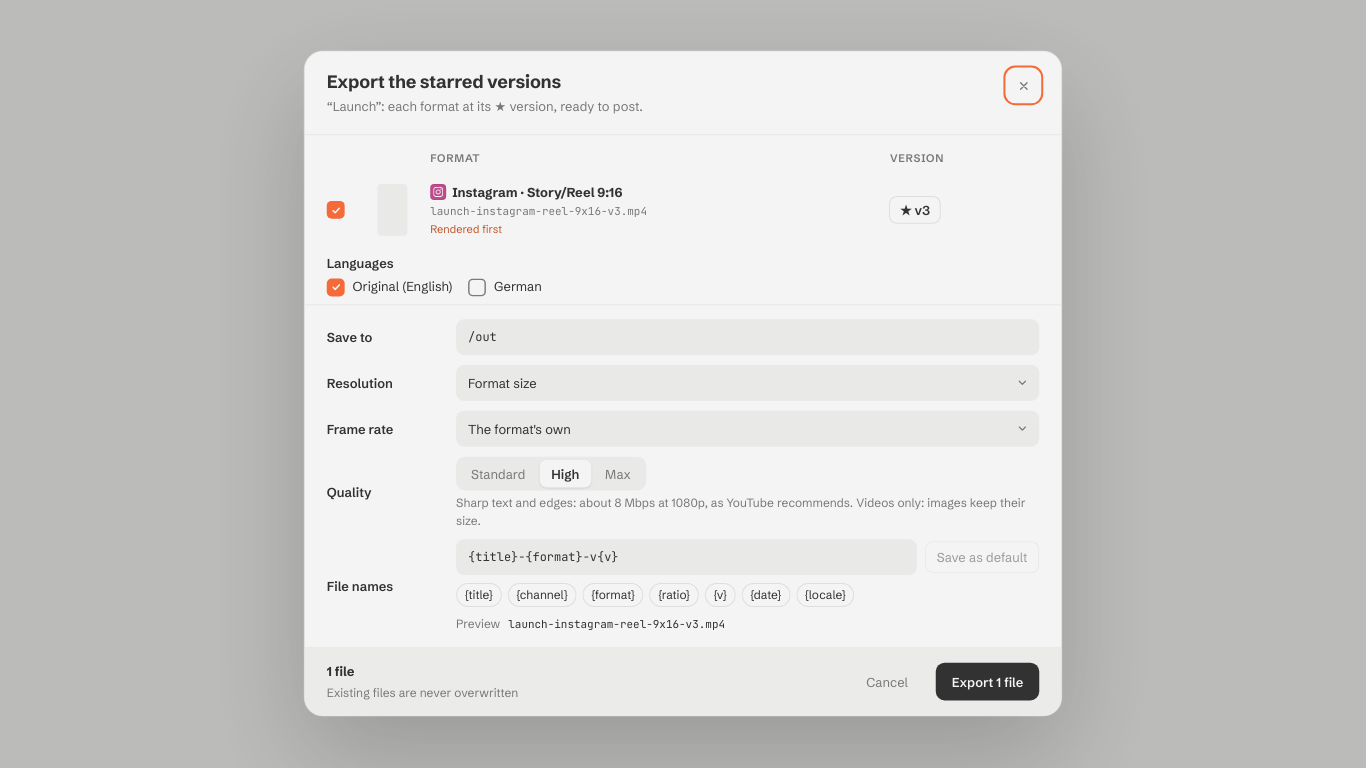
Export in several languages › the name preview lists the translated files, named with their language when the pattern has no {locale} (final review I2)
The width and height of the screenshot is (1366, 768).
Expected: the element with class "ms-exp-preview" shows "launch-instagram-reel-9x16-v3.mp4", [508,618,725,632]
Expected: the element with class "ms-exp-preview" does not show "Preview, German"
What coordinates should you click on to do the following:
click the checkbox named "German"
I would click on:
 (476, 287)
Its box is [467,278,485,296].
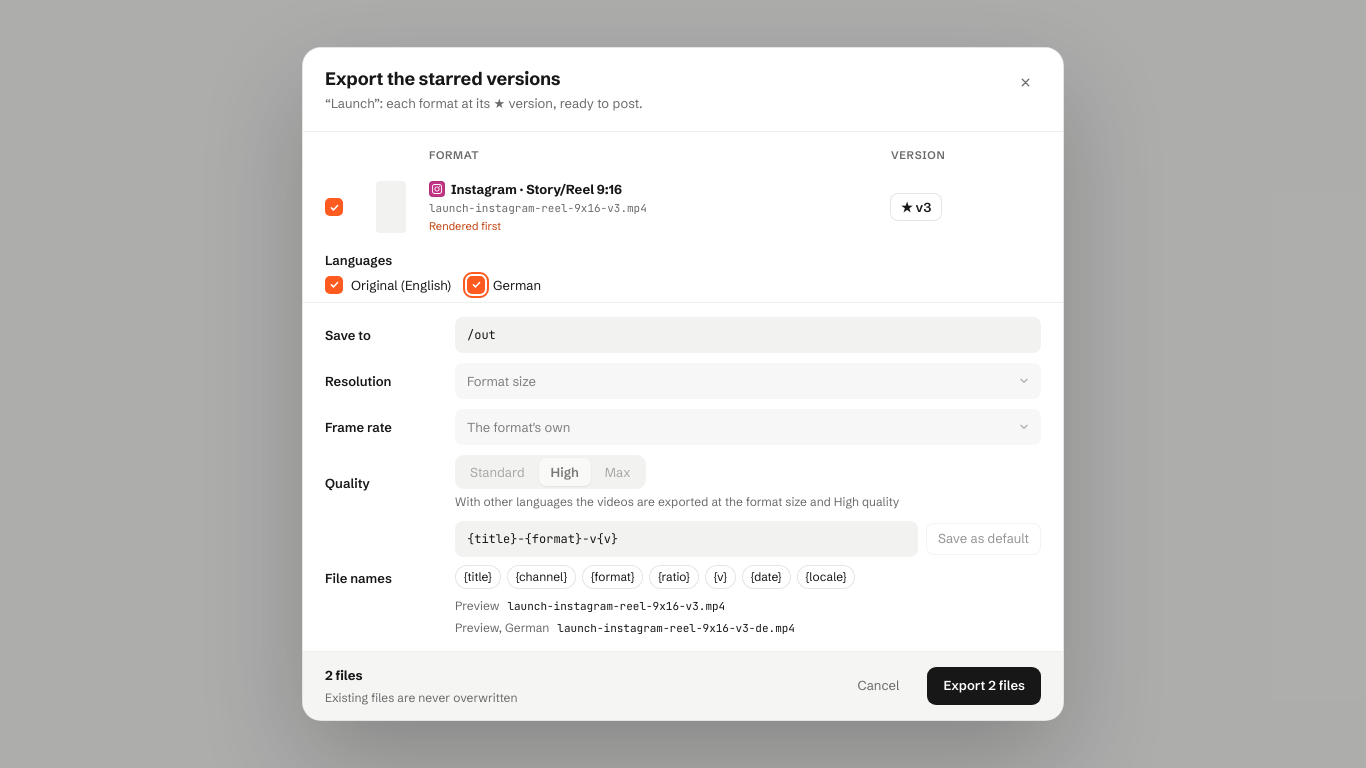
Result: the text "Preview, German" is shown at [455,619,549,636]
Result: the text "launch-instagram-reel-9x16-v3-de.mp4" is shown at [557,621,795,637]
# German alone: the original is not listed, the translation keeps its language.
What coordinates should you click on to do the following:
click the checkbox named "English"
I would click on:
 (334, 285)
Its box is [325,276,343,294].
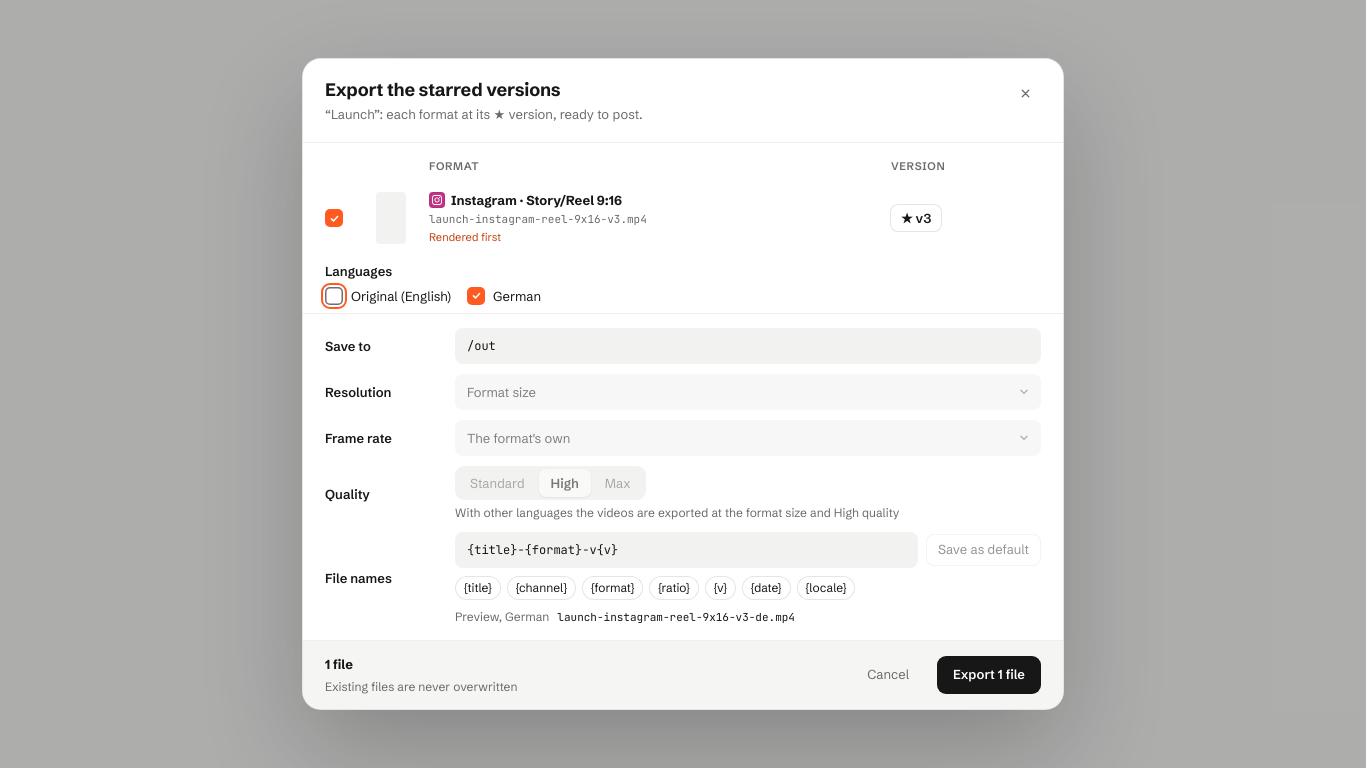
Result: the text "launch-instagram-reel-9x16-v3-de.mp4" is shown at [557,610,795,626]
Result: the element with class "ms-exp-preview" no longer shows "launch-instagram-reel-9x16-v3.mp4"
